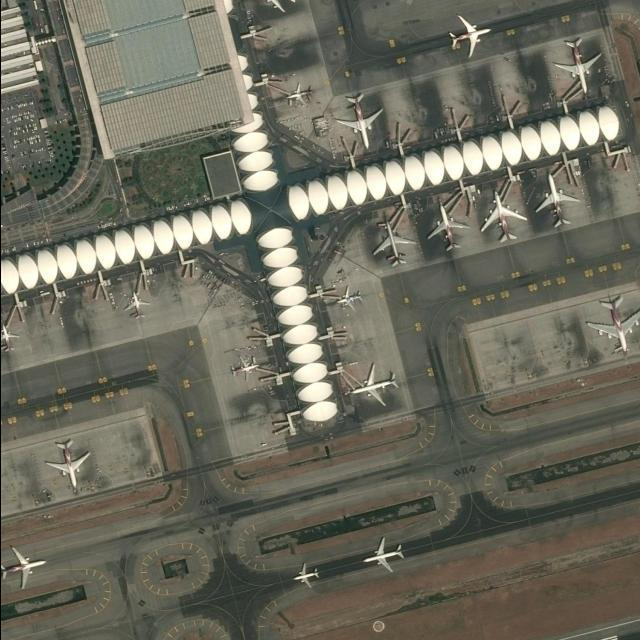Aircraft: (586, 294, 640, 355), (332, 88, 385, 146), (532, 170, 577, 232), (554, 38, 602, 94), (476, 190, 524, 244), (44, 434, 89, 488), (445, 13, 492, 61), (349, 363, 397, 409), (425, 201, 467, 252), (0, 544, 46, 590), (371, 220, 413, 270), (362, 536, 404, 574), (290, 561, 322, 589), (230, 353, 258, 383), (121, 290, 149, 318), (336, 284, 362, 313), (285, 80, 309, 107), (0, 322, 19, 354), (265, 0, 295, 14)
